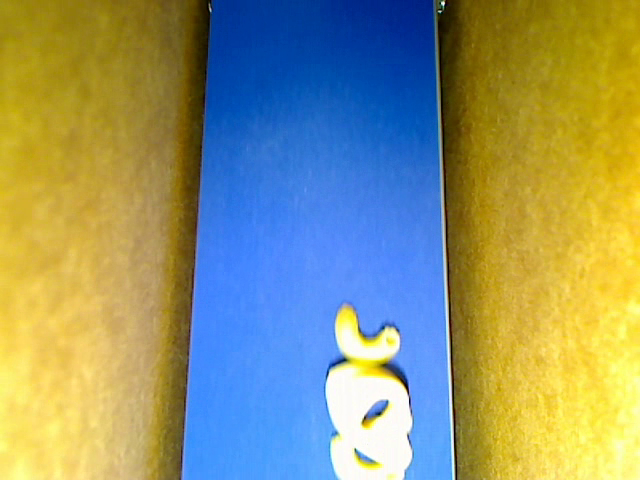elbow: (332, 302, 401, 366), (330, 435, 405, 479)
tortellini: (323, 359, 414, 468)
